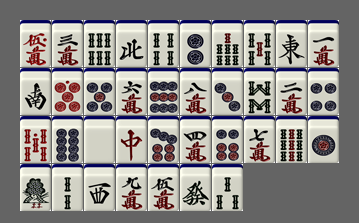0m: (20, 20, 51, 67)
0p: (52, 68, 83, 115)
0s: (20, 116, 51, 163)
1m: (308, 20, 339, 67)
1p: (308, 116, 339, 163)
1s: (20, 164, 51, 211)
1z: (276, 20, 307, 67)
2m: (276, 68, 307, 115)
2p: (180, 20, 211, 67)
2s: (52, 164, 83, 211)
2z: (20, 68, 51, 115)
3m: (52, 20, 83, 67)
3p: (212, 68, 243, 115)
3s: (212, 164, 243, 211)
3z: (84, 164, 115, 211)
4m: (180, 116, 211, 163)
4p: (308, 68, 339, 115)
4s: (148, 20, 179, 67)
4z: (116, 20, 147, 67)
5m: (148, 164, 179, 211)
5p: (84, 68, 115, 115)
5s: (244, 20, 275, 67)
5z: (84, 116, 115, 163)
6m: (116, 68, 147, 115)
6p: (212, 116, 243, 163)
6s: (84, 20, 115, 67)
6z: (180, 164, 211, 211)
7m: (244, 116, 275, 163)
7p: (148, 116, 179, 163)
7s: (212, 20, 243, 67)
7z: (116, 116, 147, 163)
8m: (180, 68, 211, 115)
8p: (52, 116, 83, 163)
8s: (244, 68, 275, 115)
9m: (116, 164, 147, 211)
9p: (148, 68, 179, 115)
9s: (276, 116, 307, 163)
